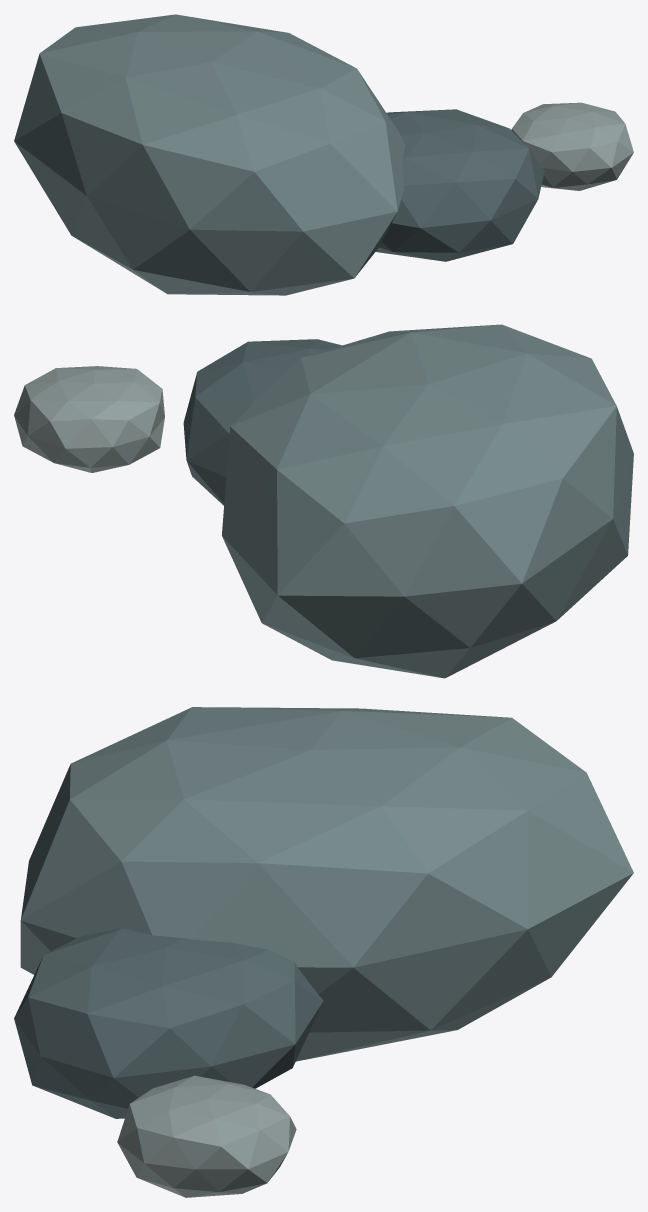
Rendered from prop_uw_rocks_b.glb.
The picture shows the model from 3 angles, top to bottom: view 1: azimuth 30°, elevation 25°; view 2: azimuth 150°, elevation 25°; view 3: azimuth 270°, elevation 25°; orthographic projection. The views are drawn at different scales.
Visible parts, largest first — view 1: uwrkb_0, uwrkb_1, uwrkb_2; view 2: uwrkb_0, uwrkb_2, uwrkb_1; view 3: uwrkb_0, uwrkb_1, uwrkb_2.
Boxes of the visible parts, box(x1,y1,x2,y2) form: uwrkb_0: box(14, 14, 405, 295); uwrkb_1: box(375, 109, 544, 261); uwrkb_2: box(511, 102, 633, 190); uwrkb_0: box(222, 324, 633, 678); uwrkb_2: box(14, 366, 164, 472); uwrkb_1: box(183, 339, 341, 505); uwrkb_0: box(20, 707, 633, 1061); uwrkb_1: box(14, 928, 323, 1118); uwrkb_2: box(117, 1075, 296, 1197).
Size of the model in its own units: 0.7697 by 0.3108 by 0.6057.
